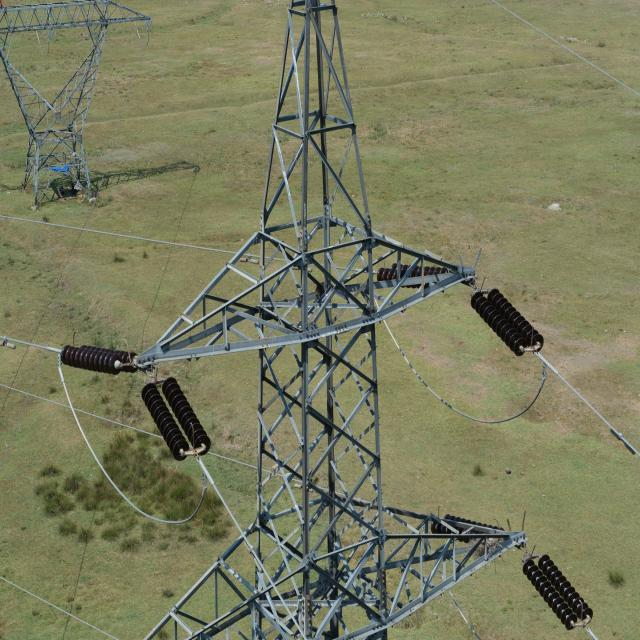direk: (251, 14, 388, 640), (5, 3, 93, 192)
